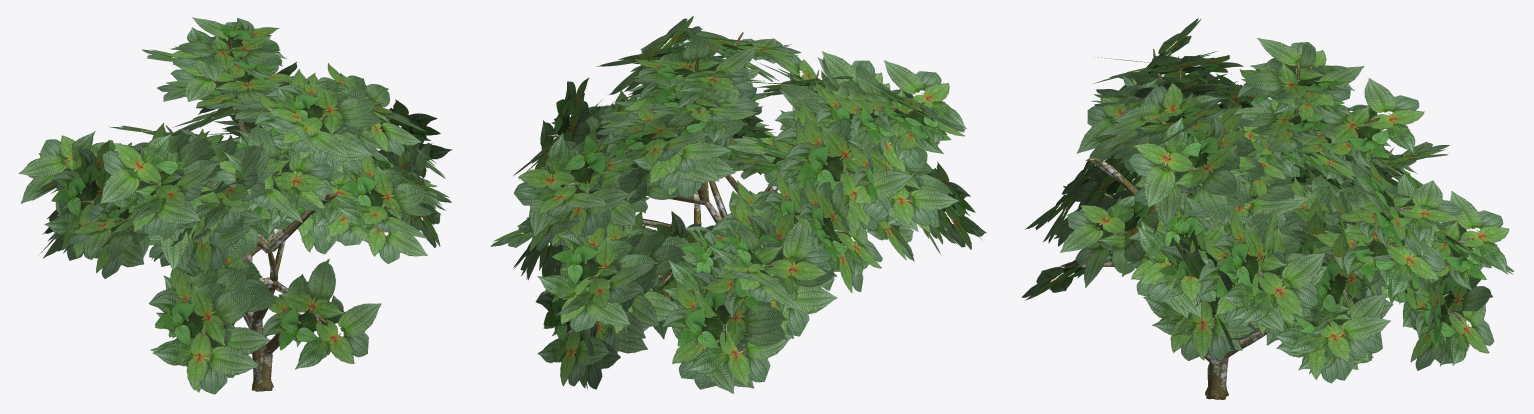
File: bush_tree_05_B_-_copy_001.glb
3 views of the same model, side by side, from view 1: azimuth 30°, elevation 25°; view 2: azimuth 150°, elevation 25°; view 3: azimuth 270°, elevation 25° (orthographic). The views are drawn at different scales.
Visible parts, largest first — view 1: bush_tree_05_B - copy.001; view 2: bush_tree_05_B - copy.001; view 3: bush_tree_05_B - copy.001.
Boxes of the visible parts, bbox=[...] form: bush_tree_05_B - copy.001: bbox=[18, 17, 451, 394]; bush_tree_05_B - copy.001: bbox=[490, 16, 986, 393]; bush_tree_05_B - copy.001: bbox=[1021, 18, 1514, 399].
Bounding box in the file's own units: 0.9121 × 0.7358 × 0.9781.
Materials: 2 (2 with a texture image).
